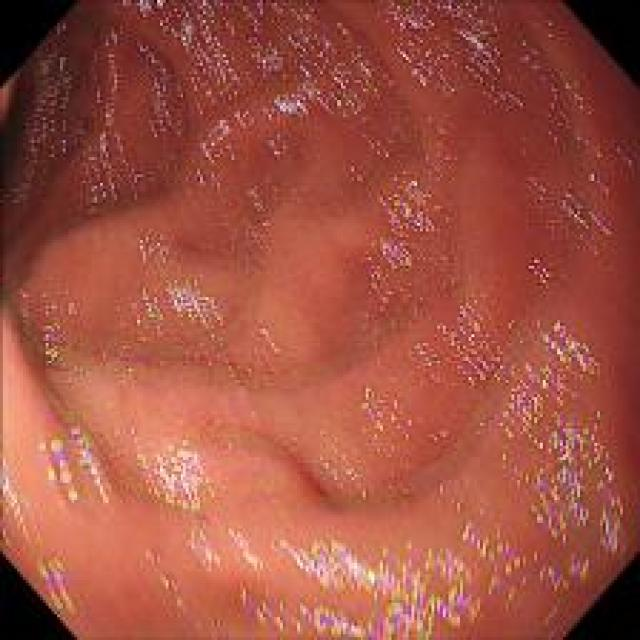bubbles: (172, 338, 272, 394), (205, 432, 235, 454), (305, 455, 321, 471)
color misalignment: (91, 2, 519, 106), (242, 540, 486, 638), (499, 364, 612, 538), (15, 42, 85, 200), (524, 41, 601, 164), (346, 106, 446, 194), (449, 510, 536, 611), (15, 290, 102, 389), (349, 378, 425, 491), (352, 231, 428, 339), (355, 232, 424, 339), (131, 425, 211, 512), (379, 179, 444, 279), (524, 175, 605, 254), (134, 539, 202, 619), (444, 298, 508, 381), (592, 459, 639, 571), (290, 431, 360, 505), (91, 109, 142, 208), (534, 318, 596, 392), (120, 285, 164, 388), (69, 435, 119, 520), (239, 172, 285, 264), (526, 549, 594, 605), (31, 292, 68, 384), (192, 114, 236, 189), (39, 430, 82, 505), (165, 278, 225, 331), (31, 550, 78, 615), (580, 145, 621, 208), (520, 248, 576, 290), (175, 526, 225, 570), (229, 520, 271, 570), (405, 341, 441, 389), (524, 9, 559, 41), (266, 132, 289, 159), (426, 422, 449, 445)
specularity: (476, 539, 590, 634), (496, 361, 555, 539), (16, 40, 81, 195), (92, 24, 179, 138), (291, 548, 481, 592), (352, 231, 426, 339), (132, 420, 212, 518), (260, 602, 484, 636), (289, 30, 375, 111), (549, 419, 605, 539), (166, 2, 240, 91), (456, 6, 521, 105), (39, 434, 112, 518), (531, 330, 602, 416), (391, 4, 454, 94), (442, 300, 508, 384), (385, 178, 442, 275), (589, 452, 632, 566), (115, 0, 291, 24), (242, 21, 295, 100), (140, 544, 196, 614), (182, 525, 265, 571), (456, 512, 515, 575), (1, 449, 35, 554), (319, 432, 370, 501), (164, 276, 226, 330), (91, 136, 138, 206), (34, 554, 79, 615), (219, 95, 312, 120), (402, 339, 445, 389), (195, 118, 238, 166), (178, 88, 241, 108), (135, 228, 172, 260)
